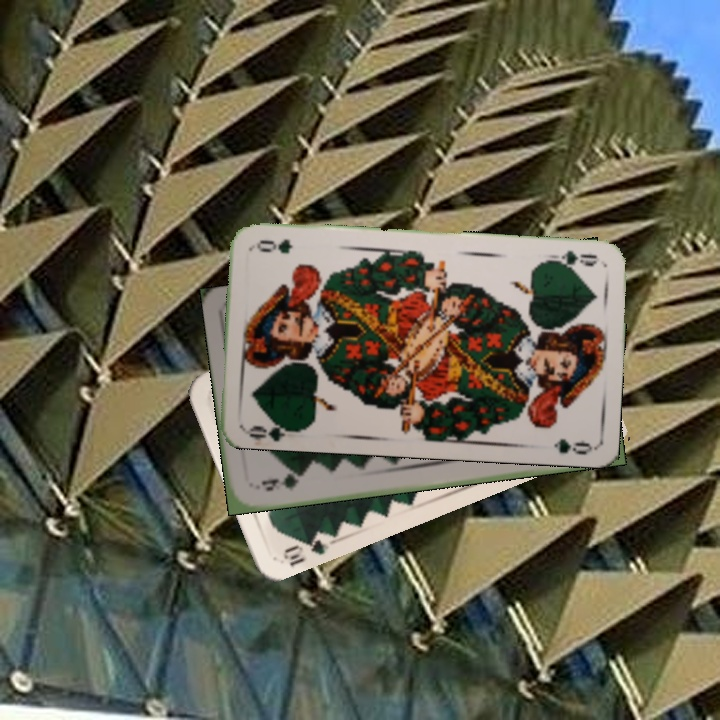G10: (279, 528, 335, 569)
G9: (257, 470, 306, 494)
GO: (244, 414, 303, 442), (544, 246, 600, 272)
